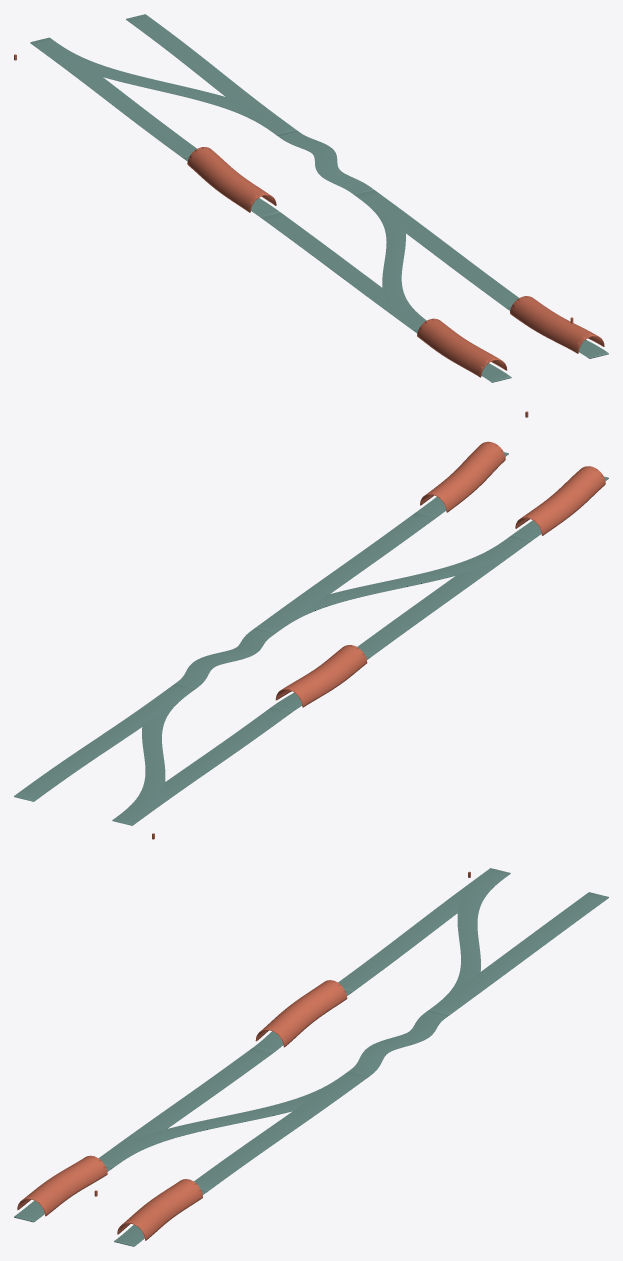
Rendered from switchyard.glb.
3 views of the same model, one above another, from view 1: azimuth 30°, elevation 25°; view 2: azimuth 150°, elevation 25°; view 3: azimuth 330°, elevation 25° (orthographic). The views are drawn at different scales.
Parts seen in each view (by area): view 1: port-1-0-to-port-1-2-deck-render, port-1-3-to-port-1-5-deck-render, port-0-0-to-port-1-2-deck-render, port-0-0-to-port-0-2-deck-render, port-0-3-to-port-0-5-deck-render, port-1-3-to-port-0-5-deck-render, port-0-2-to-port-0-3-vault-render, port-1-5-to-port-1-6-vault-render, port-0-5-to-port-0-6-vault-render, port-1-2-to-port-1-3-deck-render; view 2: port-1-3-to-port-1-5-deck-render, port-1-0-to-port-1-2-deck-render, port-1-3-to-port-0-5-deck-render, port-0-3-to-port-0-5-deck-render, port-0-0-to-port-0-2-deck-render, port-0-0-to-port-1-2-deck-render, port-0-5-to-port-0-6-vault-render, port-1-5-to-port-1-6-vault-render, port-0-2-to-port-0-3-vault-render, port-1-2-to-port-1-3-deck-render; view 3: port-1-0-to-port-1-2-deck-render, port-1-3-to-port-1-5-deck-render, port-1-3-to-port-0-5-deck-render, port-0-0-to-port-0-2-deck-render, port-0-3-to-port-0-5-deck-render, port-0-0-to-port-1-2-deck-render, port-0-2-to-port-0-3-vault-render, port-0-5-to-port-0-6-vault-render, port-1-5-to-port-1-6-vault-render, port-1-2-to-port-1-3-deck-render.
Boxes of the visible parts, <box> form: port-1-0-to-port-1-2-deck-render: <box>126,14,296,135</box>; port-1-3-to-port-1-5-deck-render: <box>355,190,518,308</box>; port-0-0-to-port-1-2-deck-render: <box>30,37,291,135</box>; port-0-0-to-port-0-2-deck-render: <box>30,41,196,158</box>; port-0-3-to-port-0-5-deck-render: <box>261,212,424,330</box>; port-1-3-to-port-0-5-deck-render: <box>355,194,426,329</box>; port-0-2-to-port-0-3-vault-render: <box>187,147,276,212</box>; port-1-5-to-port-1-6-vault-render: <box>510,296,604,353</box>; port-0-5-to-port-0-6-vault-render: <box>417,318,507,377</box>; port-1-2-to-port-1-3-deck-render: <box>278,130,373,195</box>; port-1-3-to-port-1-5-deck-render: <box>255,512,435,633</box>; port-1-0-to-port-1-2-deck-render: <box>14,683,194,801</box>; port-1-3-to-port-0-5-deck-render: <box>261,536,530,633</box>; port-0-3-to-port-0-5-deck-render: <box>357,537,530,657</box>; port-0-0-to-port-0-2-deck-render: <box>112,707,291,825</box>; port-0-0-to-port-1-2-deck-render: <box>113,688,194,824</box>; port-0-5-to-port-0-6-vault-render: <box>515,466,605,535</box>; port-1-5-to-port-1-6-vault-render: <box>420,441,505,512</box>; port-0-2-to-port-0-3-vault-render: <box>275,645,367,707</box>; port-1-2-to-port-1-3-deck-render: <box>175,628,274,689</box>; port-1-0-to-port-1-2-deck-render: <box>428,892,608,1015</box>; port-1-3-to-port-1-5-deck-render: <box>194,1071,368,1191</box>; port-1-3-to-port-0-5-deck-render: <box>99,1075,361,1168</box>; port-0-0-to-port-0-2-deck-render: <box>338,872,504,992</box>; port-0-3-to-port-0-5-deck-render: <box>99,1048,272,1166</box>; port-0-0-to-port-1-2-deck-render: <box>434,868,510,1010</box>; port-0-2-to-port-0-3-vault-render: <box>255,980,347,1047</box>; port-0-5-to-port-0-6-vault-render: <box>17,1155,107,1216</box>; port-1-5-to-port-1-6-vault-render: <box>117,1179,202,1240</box>; port-1-2-to-port-1-3-deck-render: <box>349,1010,447,1076</box>.
Size of what is drawn, in the model's own units: 229 by 86.98 by 1322.
